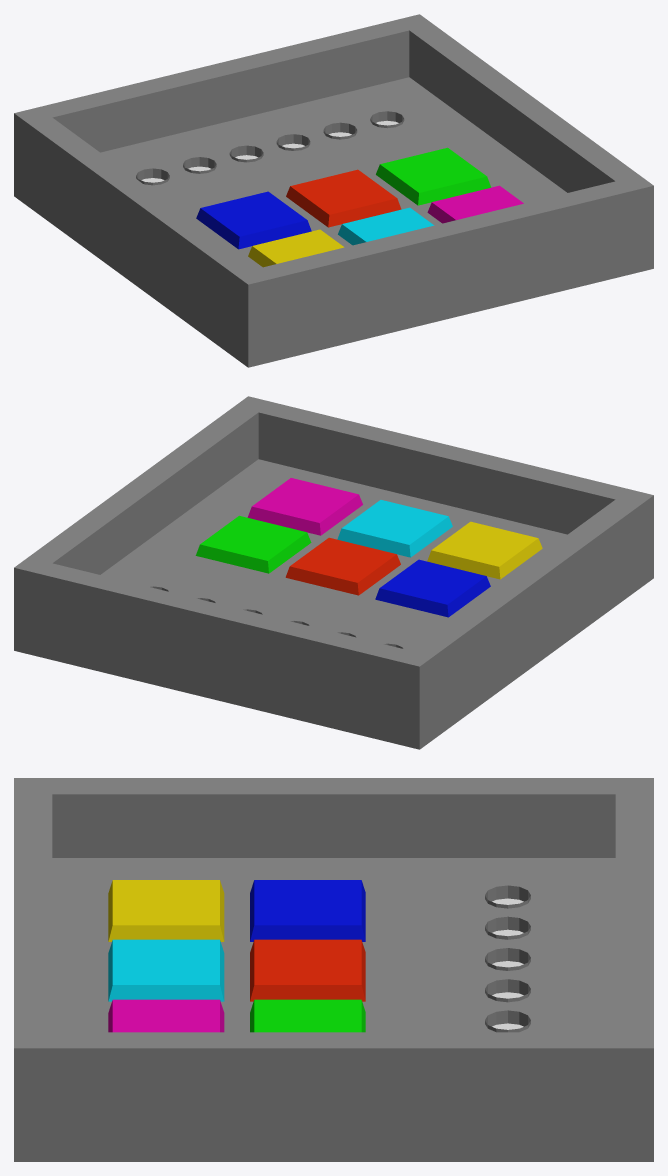
Rendered from TastierinoSchiavetti.fbx.
The picture shows the model from 3 angles, top to bottom: view 1: azimuth 30°, elevation 25°; view 2: azimuth 150°, elevation 25°; view 3: azimuth 270°, elevation 25°; orthographic projection. The views are drawn at different scales.
Visible parts, largest first — view 1: case, tasto blu, tasto rosso, tasto verde, tasto giallo, tasto ciano, tasto magenta; view 2: case, tasto verde, tasto rosso, tasto blu, tasto ciano, tasto magenta, tasto giallo; view 3: case, tasto ciano, tasto rosso, tasto giallo, tasto blu, tasto magenta, tasto verde.
Boxes of the visible parts, x1,y1,x2,y2 form: case: (14,14,653,367); tasto blu: (196,191,311,249); tasto rosso: (286,169,401,227); tasto verde: (376,147,491,205); tasto giallo: (248,229,344,267); tasto ciano: (338,207,434,245); tasto magenta: (427,185,523,223); case: (14,396,653,749); tasto verde: (195,515,311,573); tasto rosso: (285,537,400,595); tasto blu: (375,559,490,617); tasto ciano: (337,500,452,557); tasto magenta: (247,478,362,535); tasto giallo: (427,521,542,579); case: (14,778,653,1161); tasto ciano: (108,939,224,1001); tasto rosso: (250,939,365,1001); tasto giallo: (108,880,224,941); tasto blu: (250,880,365,941); tasto magenta: (108,999,224,1032); tasto verde: (250,999,365,1032).
Bounding box in the file's own units: 60 × 11.74 × 60.
